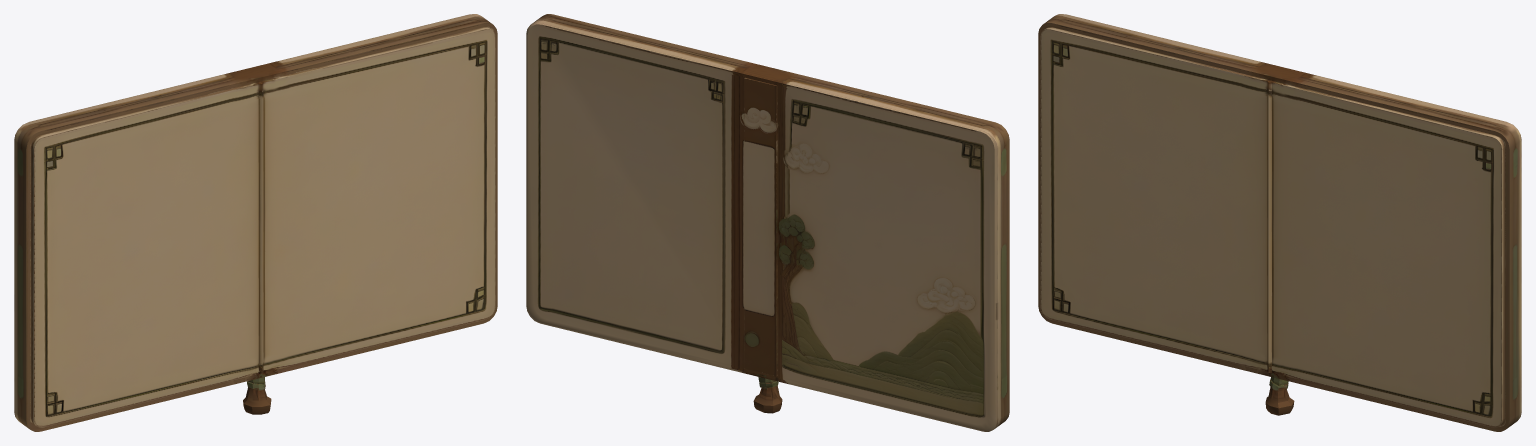
Rendered from book.fbx.
3 views of the same model, side by side, from view 1: azimuth 30°, elevation 25°; view 2: azimuth 150°, elevation 25°; view 3: azimuth 330°, elevation 25° (orthographic).
Parts seen in each view (by area): view 1: Cube.001, Cube; view 2: Cube.001, Cube; view 3: Cube, Cube.001.
Boxes of the visible parts, box(x1,y1,x2,y2) form: Cube.001: box(14, 68, 262, 431); Cube: box(243, 14, 497, 414); Cube.001: box(760, 68, 1009, 431); Cube: box(526, 14, 782, 413); Cube: box(1265, 68, 1521, 431); Cube.001: box(1038, 14, 1286, 376).
Size of the model in its own units: 5.93 by 69.14 by 101.
